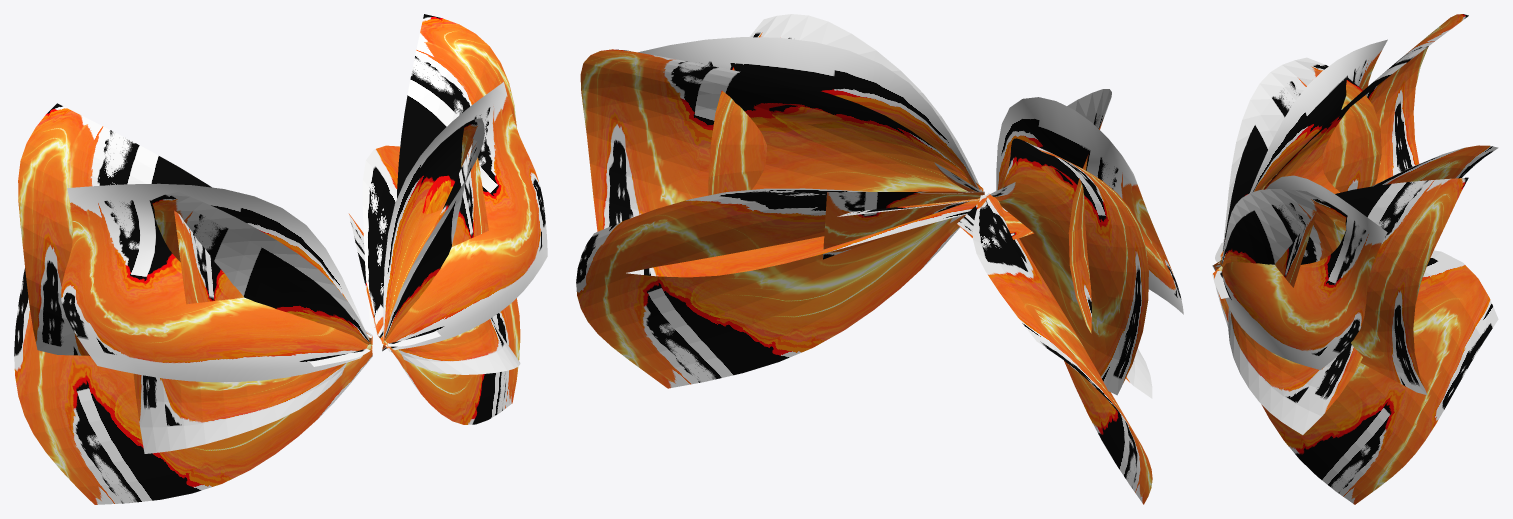
Rendered from fx_wing_mesh005.FBX.
3 views of the same model, side by side, from view 1: azimuth 30°, elevation 25°; view 2: azimuth 150°, elevation 25°; view 3: azimuth 270°, elevation 25° (orthographic). The views are drawn at different scales.
Parts seen in each view (by area): view 1: Plane_L, Plane_R; view 2: Plane_R, Plane_L; view 3: Plane_R, Plane_L.
Boxes of the visible parts, x1,y1,x2,y2 form: Plane_L: (14, 103, 372, 504); Plane_R: (348, 14, 547, 424); Plane_R: (576, 14, 984, 388); Plane_L: (957, 89, 1183, 504); Plane_R: (1212, 175, 1498, 504); Plane_L: (1212, 14, 1498, 270).
Size of the model in its own units: 291 by 197 by 162.
